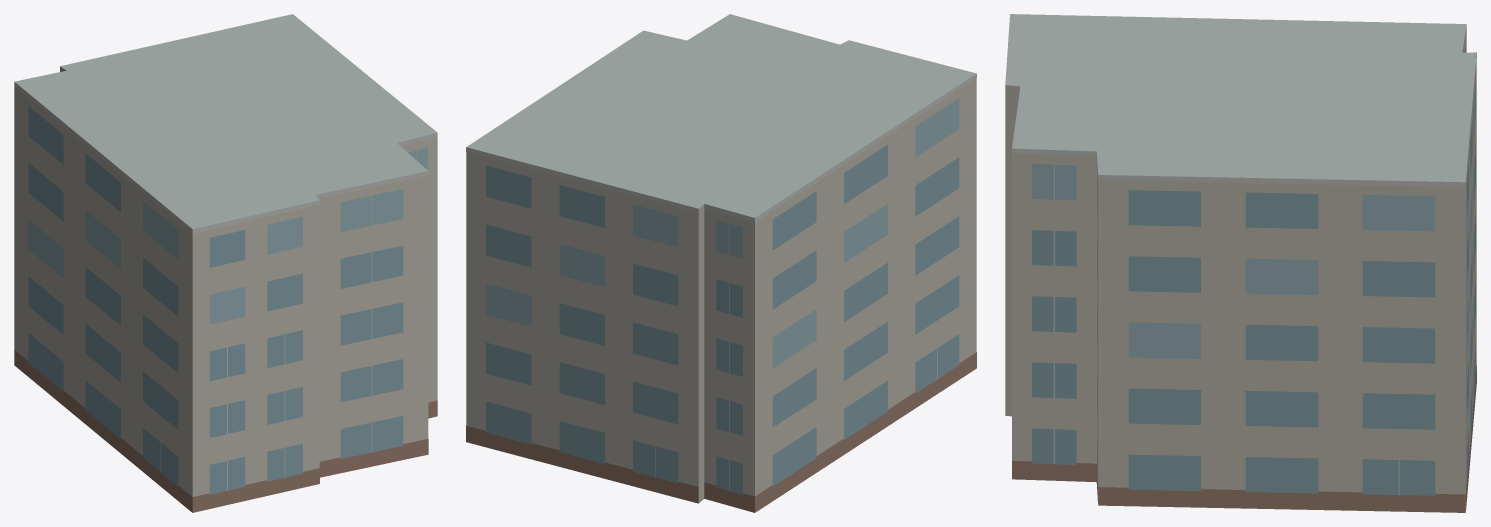
Rendered from survey-upis-32496995.glb.
3 renders of one model, left to right at view 1: azimuth 30°, elevation 25°; view 2: azimuth 150°, elevation 25°; view 3: azimuth 270°, elevation 25°, orthographic. The views are drawn at different scales.
Visible parts, largest first — view 1: survey-upis-32496995.tmp; view 2: survey-upis-32496995.tmp; view 3: survey-upis-32496995.tmp.
Boxes of the visible parts, <box> form: survey-upis-32496995.tmp: <box>14,14,437,512</box>; survey-upis-32496995.tmp: <box>466,14,976,512</box>; survey-upis-32496995.tmp: <box>1005,14,1476,512</box>.
Size of the model in its own units: 17.3 by 15.85 by 20.49.
